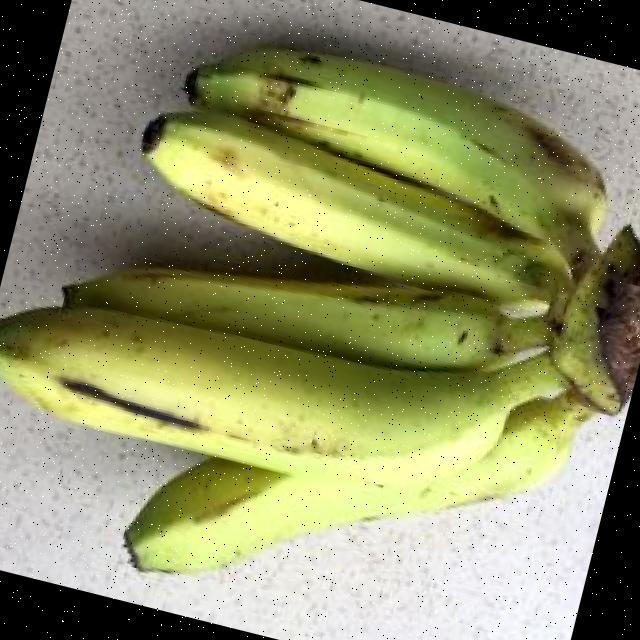banana: (0, 307, 564, 485), (186, 48, 605, 265), (124, 395, 591, 574), (142, 115, 567, 303), (64, 268, 549, 367)
